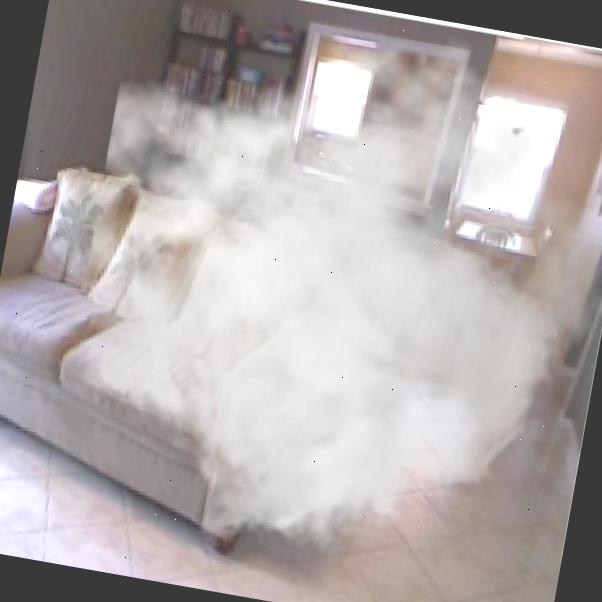smoke: (43, 0, 602, 602)
